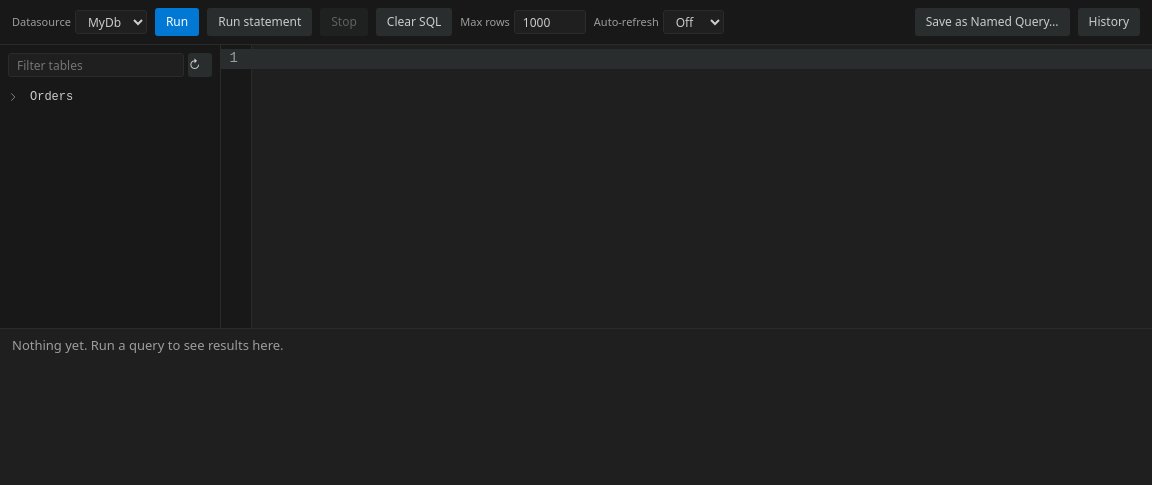
Scenario: QueryBrowser › renders a rows-result via the results grid
Step 1. Double-click the button "Orders" → [119, 97], box [22,85,216,109]
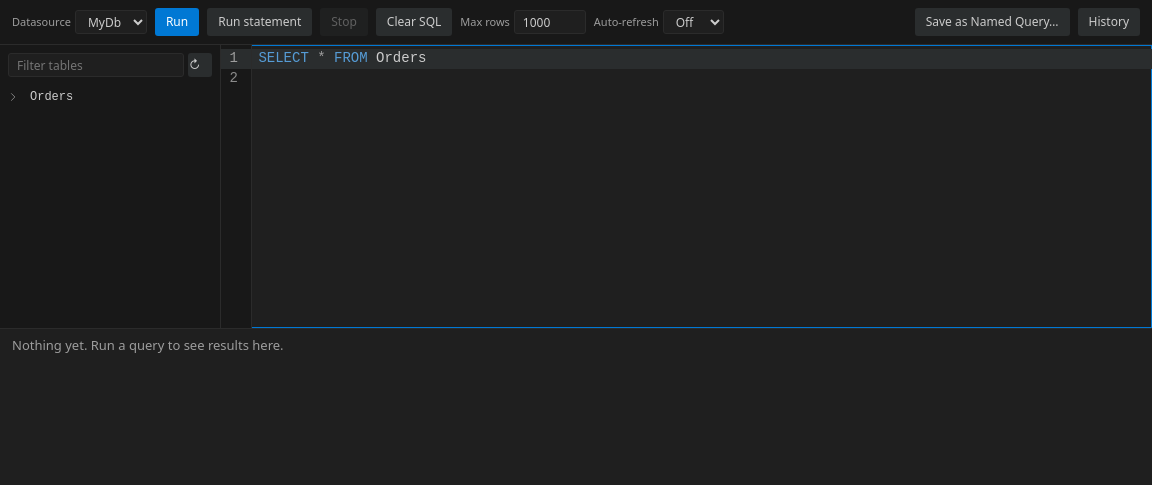
Step 2. Click the button "Run" → [177, 22], box [155,8,199,36]
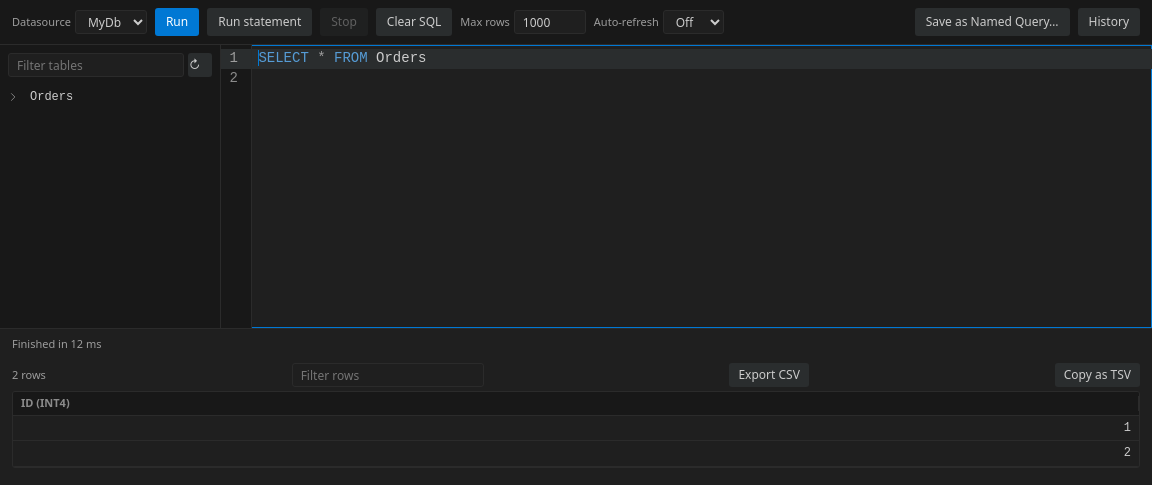
expect the button "id (int4)" is shown: met, box [13,392,1131,415]
expect the table is shown: met, box [13,392,1139,466]
